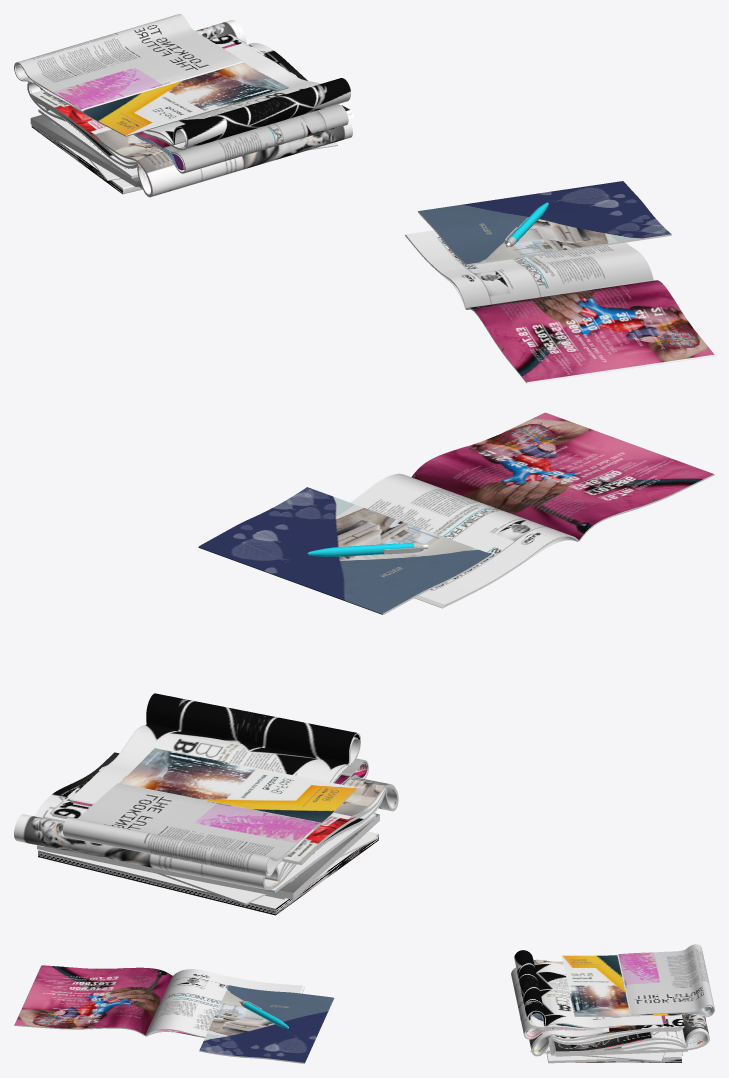
The model's file is magazines.glb.
3 renders of one model, top to bottom at view 1: azimuth 30°, elevation 25°; view 2: azimuth 150°, elevation 25°; view 3: azimuth 270°, elevation 25°, orthographic. The views are drawn at different scales.
Parts seen in each view (by area): view 1: Journal_S_037_jj_magazine cover_4_4_0, Journal_S_040_jj_magazine cover_4_7_0, Journal_M_343_notes w_0, Journal_S_038_jj_magazine cover_4_1_0, Journal_open_two_015_jj_magazine cover_1_005_0, Journal_S_039_jj_magazine cover_4_3_0, Journal_open_two_014_jj_magazine cover_1_005_0, Journal_open_two_015_jj_pages _ 1_0, Journal_S_040_jj_pages _ 2_0, Journal_S_037_jj_pages _ 2_0, Journal_L_4_015_jj_pages _ 1_0, Journal_L_4_015_jj_magazine cover_2_004_0 (+1 smaller); view 2: Journal_S_037_jj_magazine cover_4_4_0, Journal_S_040_jj_magazine cover_4_7_0, Journal_M_343_notes w_0, Journal_S_038_jj_magazine cover_4_1_0, Journal_open_two_014_jj_magazine cover_1_005_0, Journal_open_two_015_jj_magazine cover_1_005_0, Journal_L_1_014_jj_pages _ 1_0, Journal_L_4_015_jj_pages _ 1_0, Journal_L_1_014_jj_magazine cover_2_001_0, Journal_open_two_015_jj_pages _ 1_0, Journal_L_3_017_jj_magazine cover_2_003_0, ruchka_pen color 03_0 (+1 smaller); view 3: Journal_S_037_jj_magazine cover_4_4_0, Journal_S_040_jj_magazine cover_4_7_0, Journal_M_343_notes w_0, Journal_S_038_jj_magazine cover_4_1_0, Journal_open_two_014_jj_magazine cover_1_005_0, Journal_open_two_015_jj_magazine cover_1_005_0, Journal_open_two_014_jj_pages _ 1_0, Journal_open_two_015_jj_pages _ 1_0, Journal_S_039_jj_magazine cover_4_3_0, Journal_S_037_jj_pages _ 2_0, Journal_S_040_jj_pages _ 2_0, Journal_L_3_017_jj_magazine cover_2_003_0 (+6 smaller).
Boxes of the visible parts, x1,y1,x2,y2 form: Journal_S_037_jj_magazine cover_4_4_0: (406,230,714,382); Journal_S_040_jj_magazine cover_4_7_0: (15,14,288,135); Journal_M_343_notes w_0: (418,181,671,264); Journal_S_038_jj_magazine cover_4_1_0: (143,43,350,149); Journal_open_two_015_jj_magazine cover_1_005_0: (31,34,352,196); Journal_S_039_jj_magazine cover_4_3_0: (133,43,348,172); Journal_open_two_014_jj_magazine cover_1_005_0: (29,20,351,116); Journal_open_two_015_jj_pages _ 1_0: (31,72,294,197); Journal_S_040_jj_pages _ 2_0: (14,61,288,136); Journal_S_037_jj_pages _ 2_0: (405,235,714,383); Journal_L_4_015_jj_pages _ 1_0: (30,118,136,186); Journal_L_4_015_jj_magazine cover_2_004_0: (31,114,140,186); Journal_S_037_jj_magazine cover_4_4_0: (350,412,713,607); Journal_S_040_jj_magazine cover_4_7_0: (63,748,356,876); Journal_M_343_notes w_0: (198,487,490,614); Journal_S_038_jj_magazine cover_4_1_0: (70,693,360,803); Journal_open_two_014_jj_magazine cover_1_005_0: (14,752,294,889); Journal_open_two_015_jj_magazine cover_1_005_0: (50,765,397,861); Journal_L_1_014_jj_pages _ 1_0: (38,834,378,915); Journal_L_4_015_jj_pages _ 1_0: (44,814,379,899); Journal_L_1_014_jj_magazine cover_2_001_0: (38,831,377,908); Journal_open_two_015_jj_pages _ 1_0: (50,767,398,864); Journal_L_3_017_jj_magazine cover_2_003_0: (165,833,377,903); ruchka_pen color 03_0: (308,542,413,556); Journal_S_037_jj_magazine cover_4_4_0: (14,965,304,1037); Journal_S_040_jj_magazine cover_4_7_0: (561,944,714,1016); Journal_M_343_notes w_0: (199,985,334,1062); Journal_S_038_jj_magazine cover_4_1_0: (514,950,662,1029); Journal_open_two_014_jj_magazine cover_1_005_0: (550,1014,709,1053); Journal_open_two_015_jj_magazine cover_1_005_0: (529,959,684,1054); Journal_open_two_014_jj_pages _ 1_0: (549,1031,709,1055); Journal_open_two_015_jj_pages _ 1_0: (531,1027,683,1056); Journal_S_039_jj_magazine cover_4_3_0: (511,967,665,1038); Journal_S_037_jj_pages _ 2_0: (14,967,304,1037); Journal_S_040_jj_pages _ 2_0: (574,954,714,1016); Journal_L_3_017_jj_magazine cover_2_003_0: (531,1050,664,1060).
Size of the model in its own units: 53.61 by 10.73 by 132.
Materials: 26 (9 with a texture image).
